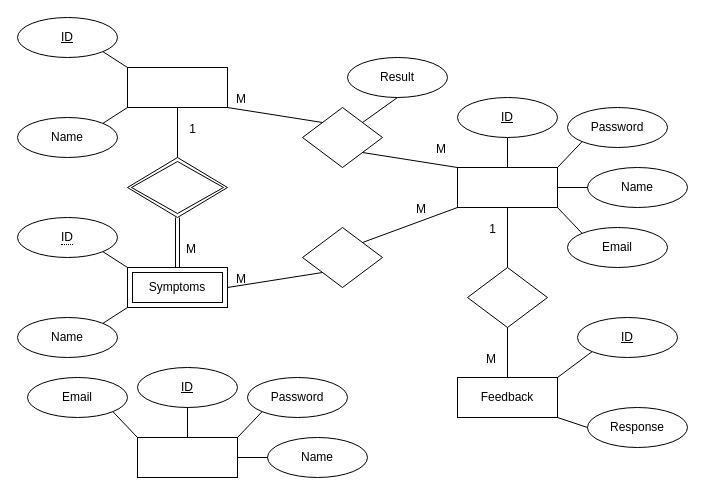
The diagram is 705 pixels wide and 495 high, and some of its shapes have lost their labels. The shapes that lost their labels are listed below. From the top down, each one's centre as x and y in pixels, then its label:
point 177,87: Disease
point 342,137: Diagnosis
point 177,187: Identified By
point 507,187: User
point 342,257: Chooses
point 507,297: Gives
point 187,457: Admin
